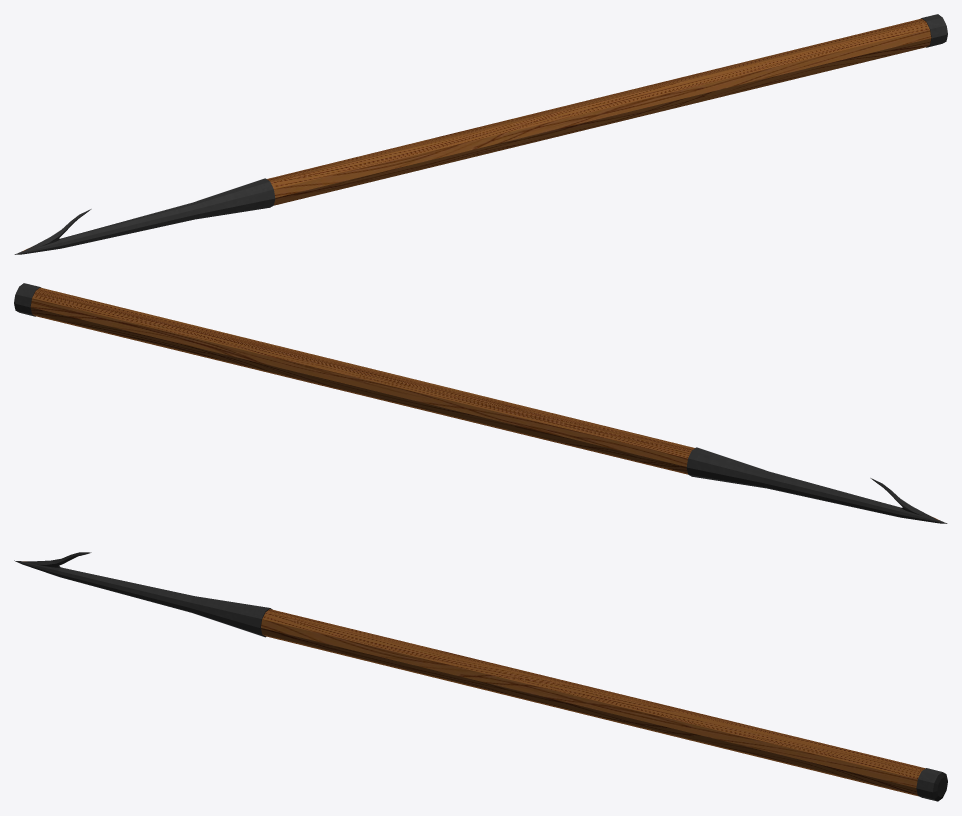
File: HarpoonSpear.fbx
3 views of the same model, one above another, from view 1: azimuth 30°, elevation 25°; view 2: azimuth 150°, elevation 25°; view 3: azimuth 330°, elevation 25° (orthographic).
Parts seen in each view (by area): view 1: ZomboidHarpoonSpear; view 2: ZomboidHarpoonSpear; view 3: ZomboidHarpoonSpear.
Part boxes in pixels (x1,y1,x2,y2): ZomboidHarpoonSpear: (14,14,947,254); ZomboidHarpoonSpear: (14,283,947,523); ZomboidHarpoonSpear: (14,552,947,801).
Bounding box in the file's own units: 1.1 × 0.0459 × 0.0314.
